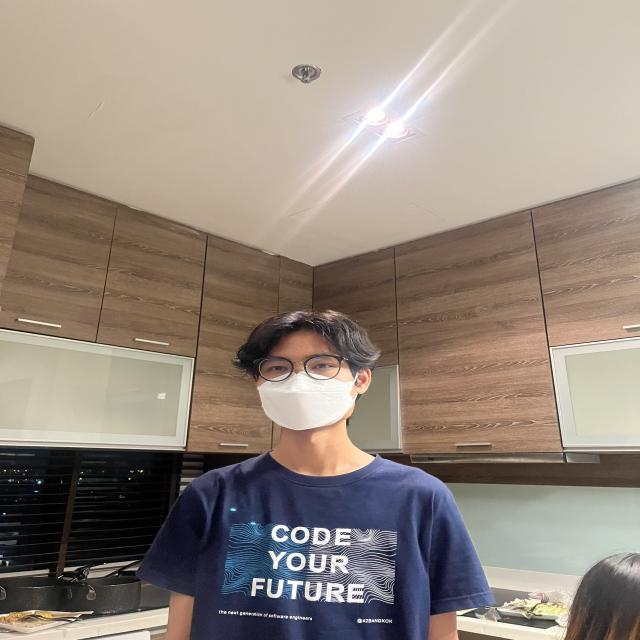mask: (254, 371, 360, 432)
